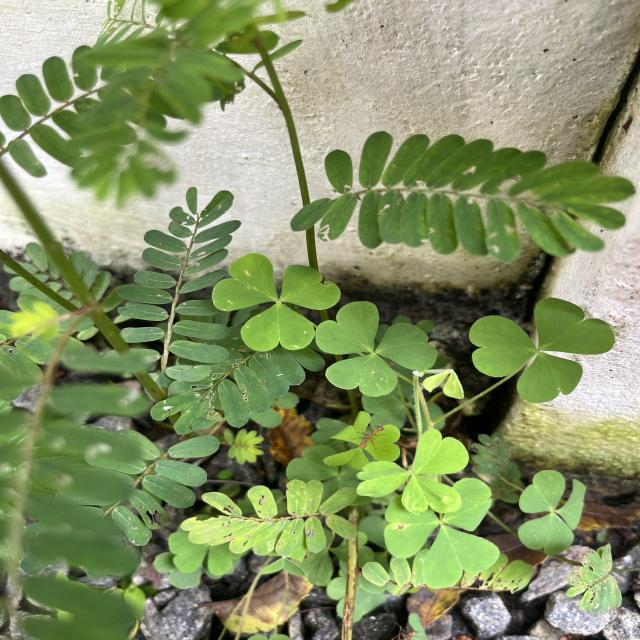Oxalis corniculata: (468, 296, 616, 404), (383, 477, 501, 590), (210, 252, 342, 353), (314, 300, 439, 398), (356, 428, 470, 515), (516, 469, 586, 557)
